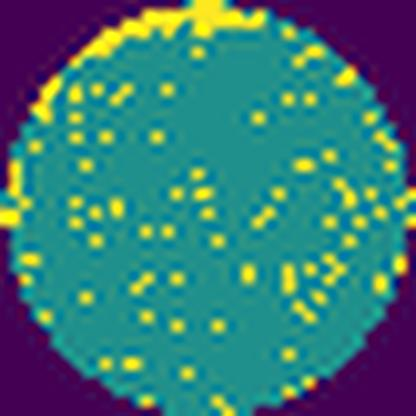Edge-Loc: (63, 0, 270, 71)
